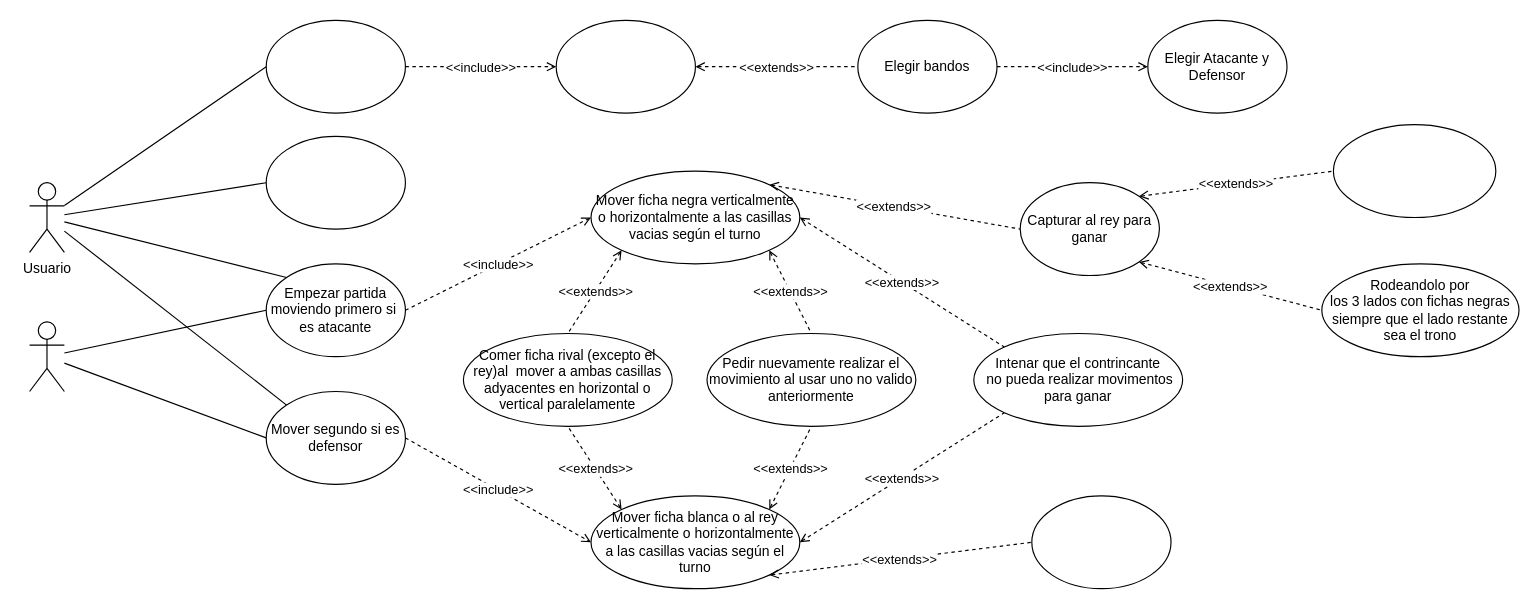
Some shapes in this 1539 by 609 pixel diagram are drawn without their labels. Each missing label, with the centre of its shape:
"Cambiar de bandos a los jugadores" goes at point (335, 182).
"Elegir si los jugadores son personas o la IA" goes at point (335, 66).
"Intentar llevar al rey a las esquinas para ganar" goes at point (1101, 542).
"Maquina" goes at point (46, 356).
"Rodeandolo por los 4 lados con fichas negras" goes at point (1414, 170).
"Seleccionar de 0 a 2 IA" goes at point (625, 66).
